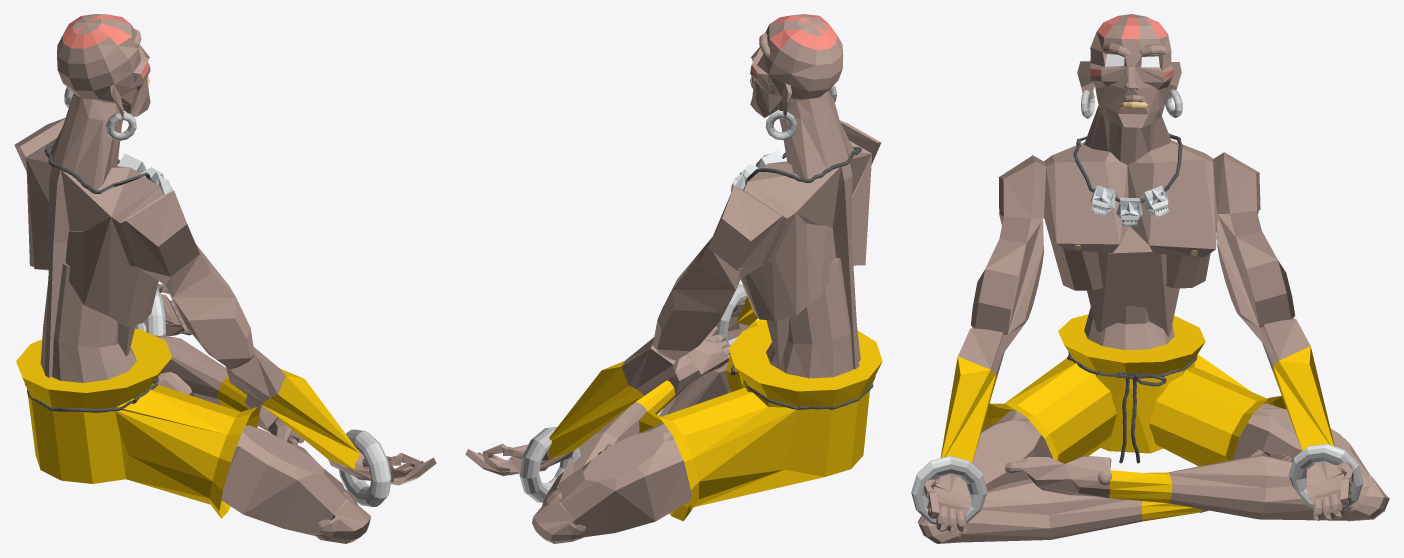
The model's file is Human.fbx.
3 renders of one model, left to right at view 1: azimuth 30°, elevation 25°; view 2: azimuth 150°, elevation 25°; view 3: azimuth 270°, elevation 25°, orthographic. The views are drawn at different scales.
Visible parts, largest first — view 1: Human; view 2: Human; view 3: Human.
Boxes of the visible parts, bbox=[...] form: Human: bbox=[14, 14, 436, 543]; Human: bbox=[465, 14, 882, 543]; Human: bbox=[911, 14, 1389, 543].
Bounding box in the file's own units: 87.6 × 132 × 125.
